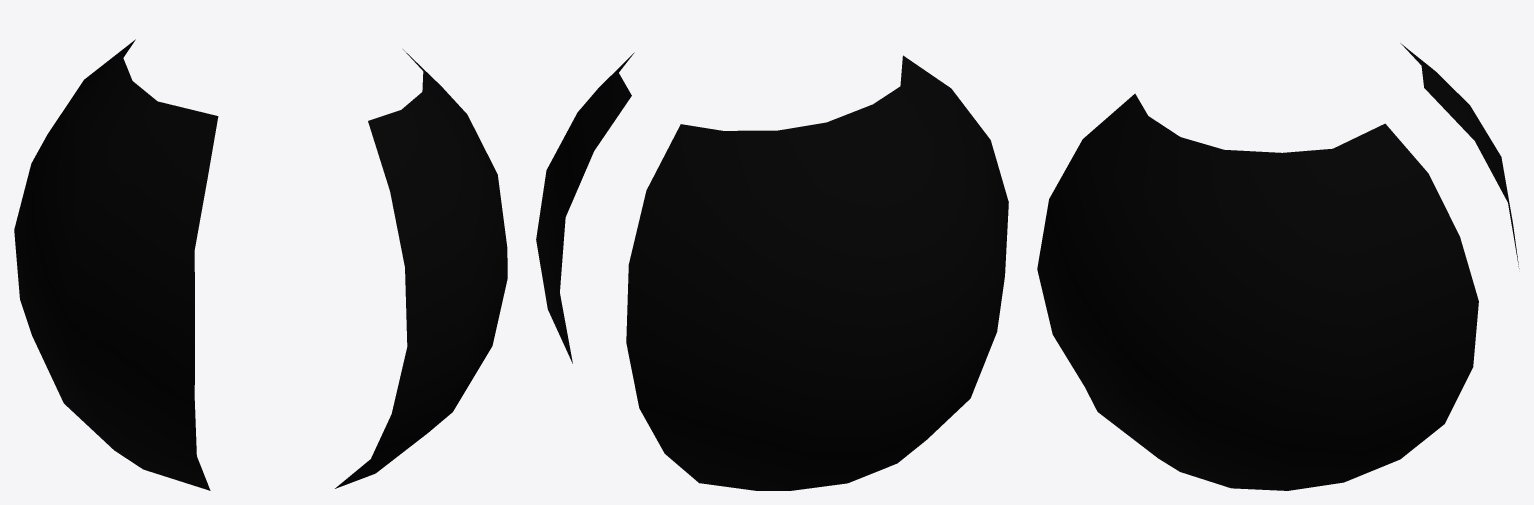
Rendered from bubble_solid2.glb.
3 renders of one model, left to right at view 1: azimuth 30°, elevation 25°; view 2: azimuth 150°, elevation 25°; view 3: azimuth 270°, elevation 25°, orthographic. The views are drawn at different scales.
Visible parts, largest first — view 1: bubble_solid_texture.png__; view 2: bubble_solid_texture.png__; view 3: bubble_solid_texture.png__.
Boxes of the visible parts, x1,y1,x2,y2 form: bubble_solid_texture.png__: [14, 39, 507, 490]; bubble_solid_texture.png__: [536, 52, 1008, 490]; bubble_solid_texture.png__: [1037, 43, 1519, 490].
Size of the model in its own units: 13.03 by 11.27 by 13.2.
Materials: 1 (1 with a texture image).
